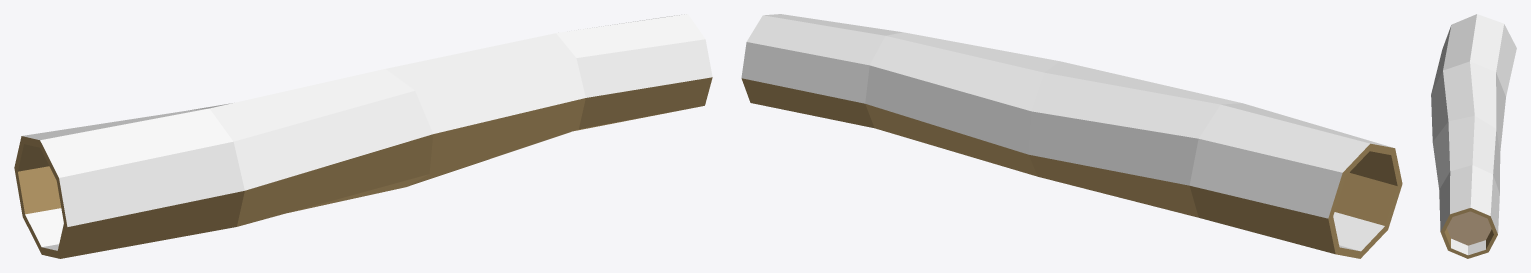
File: Oak_Log_Snow_05_LOD.fbx
3 views of the same model, side by side, from view 1: azimuth 30°, elevation 25°; view 2: azimuth 150°, elevation 25°; view 3: azimuth 270°, elevation 25° (orthographic). The views are drawn at different scales.
Visible parts, largest first — view 1: Oak_Log_Snow_05_LOD0; view 2: Oak_Log_Snow_05_LOD0; view 3: Oak_Log_Snow_05_LOD0.
Part boxes in pixels (left/top/right/bottom): Oak_Log_Snow_05_LOD0: left=14, top=14, right=712, bottom=258; Oak_Log_Snow_05_LOD0: left=741, top=14, right=1402, bottom=258; Oak_Log_Snow_05_LOD0: left=1431, top=14, right=1516, bottom=258.
Size of what is drawn, in the model's own units: 310 by 56.44 by 62.62.
